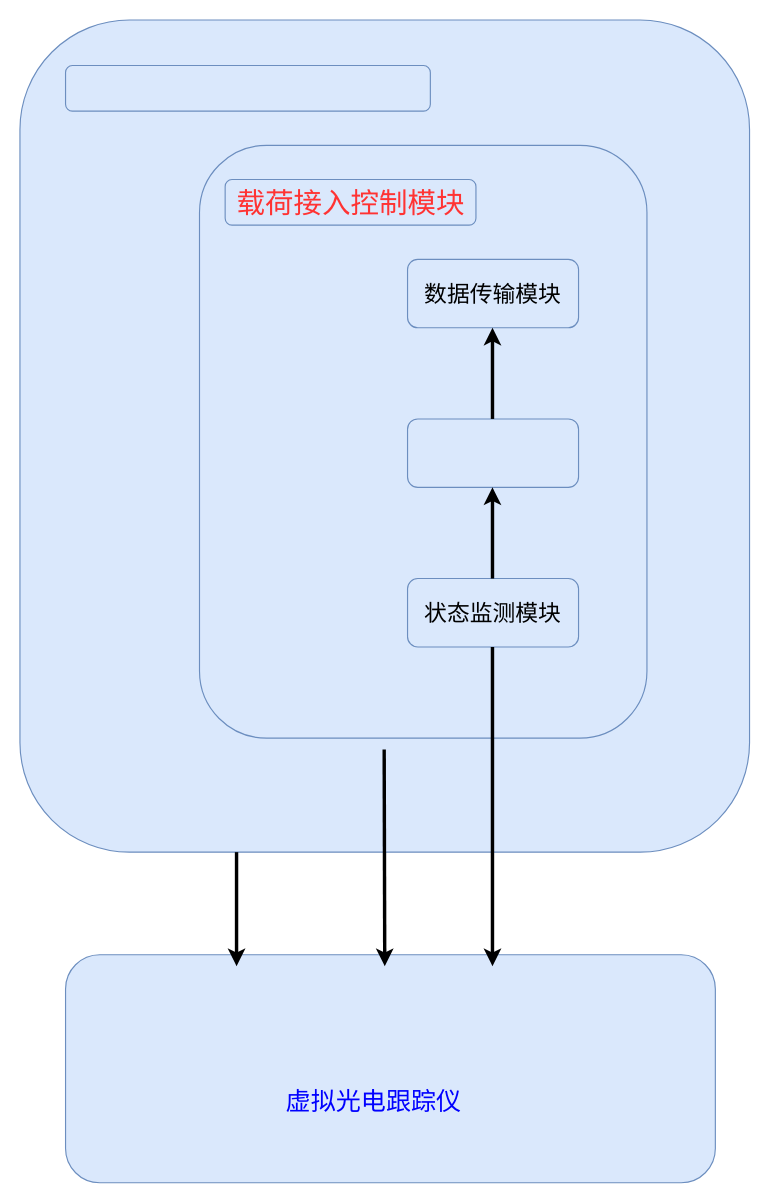
This 770x1203 diagram has some shape labels left out. The centre of each missing label's shape, as x and y in pixels:
"数据处理模块" goes at [492,452].
"无人艇操作系统主控制模块" goes at [247,87].
